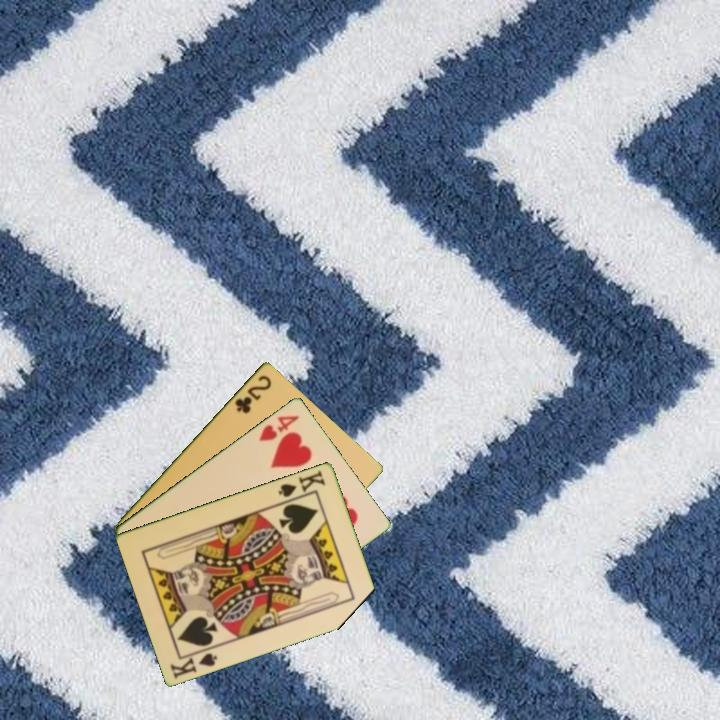2c: (231, 371, 274, 416)
4h: (255, 411, 302, 444)
Ks: (167, 643, 220, 681), (275, 467, 328, 504)
